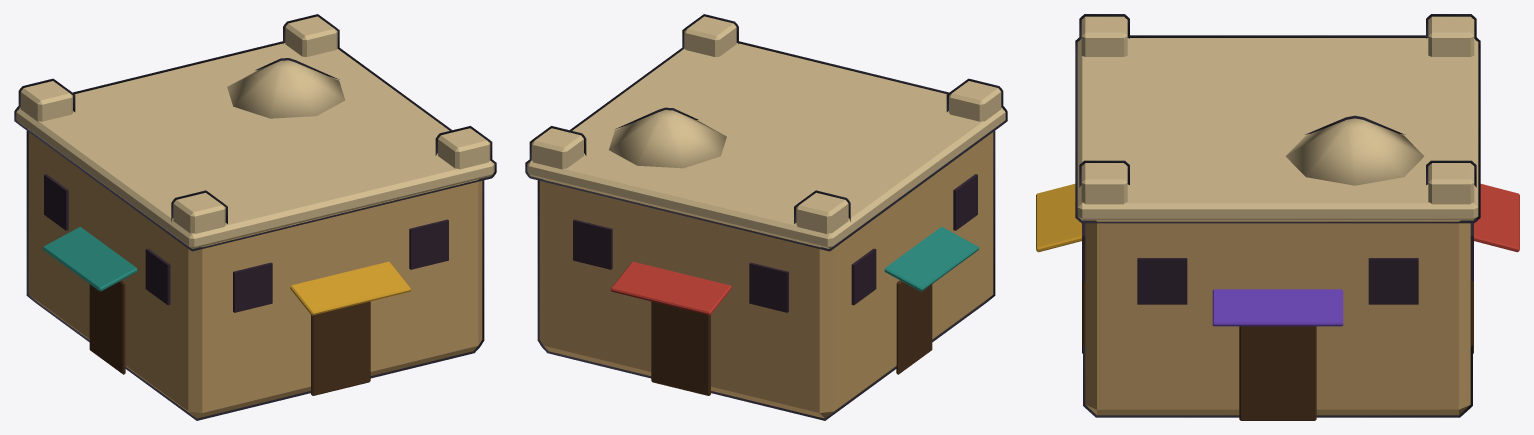
File: sandstone_house.glb
3 renders of one model, left to right at view 1: azimuth 30°, elevation 25°; view 2: azimuth 150°, elevation 25°; view 3: azimuth 270°, elevation 25°, orthographic. The views are drawn at different scales.
Parts seen in each view (by area): view 1: sandstone_house; view 2: sandstone_house; view 3: sandstone_house.
Part boxes in pixels (box(x1,y1,x2,y2)): sandstone_house: box(14, 14, 496, 420); sandstone_house: box(525, 14, 1007, 420); sandstone_house: box(1036, 14, 1519, 420).
Size of the model in its own units: 12.56 by 7.33 by 12.56.
